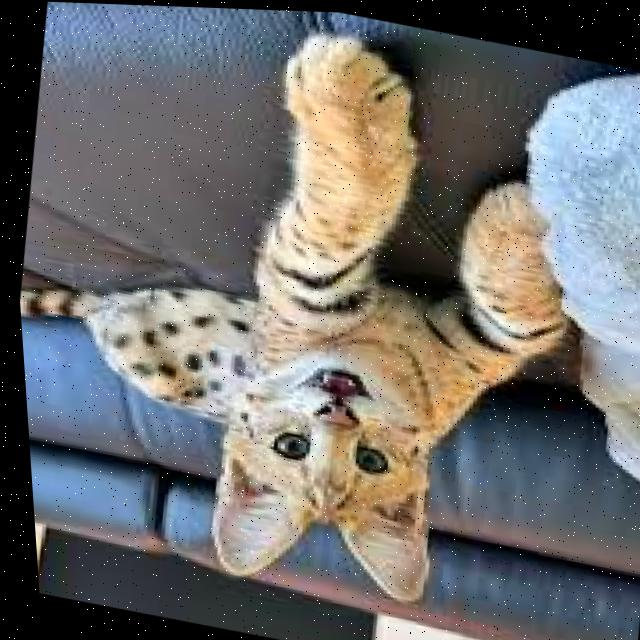Savannah: (0, 0, 621, 640)
